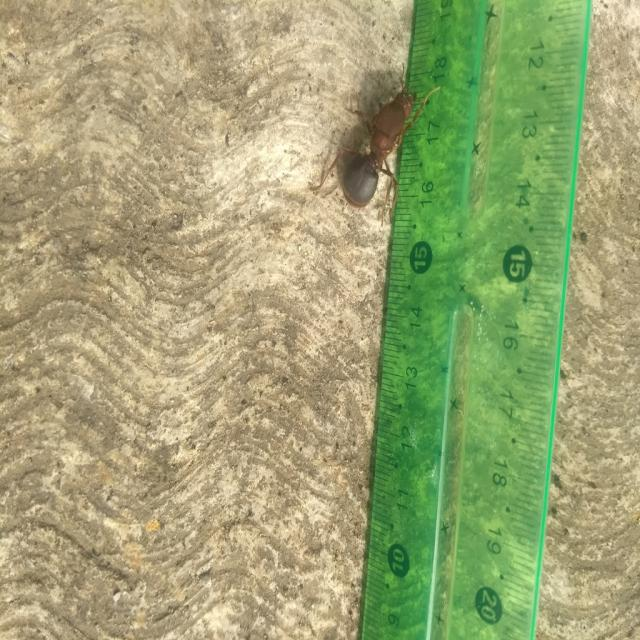Alive-Female-Dealate: (311, 62, 441, 227)
